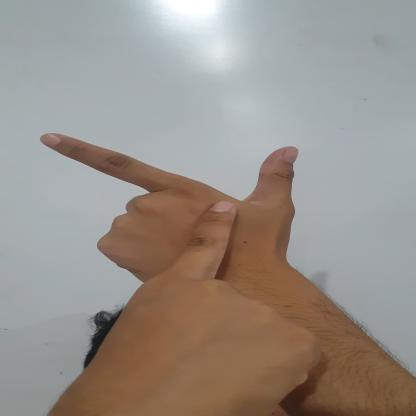Y: (40, 130, 298, 337)
